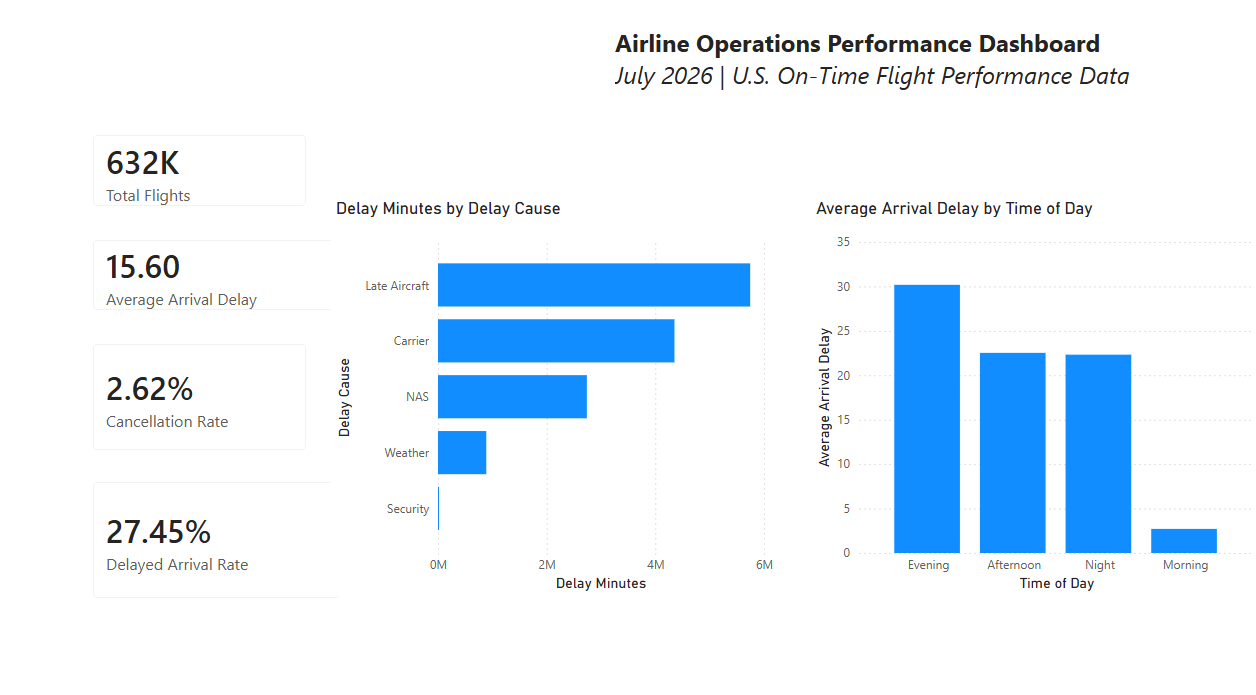

This screenshot's page, from the dashboard's own definition file:
{"tool":"powerbi","page":{"name":"Page 1","canvas":[1280,720],"ordinal":0},"visuals":[{"type":"cardVisual","fields":{"Data":["T_ONTIME_REPORTING.Total Flights","T_ONTIME_REPORTING.Total Flights"]},"box":[97,124,247,105],"z":0},{"type":"cardVisual","fields":{"Data":["T_ONTIME_REPORTING.Cancellation Rate"]},"box":[97,333,247,140],"z":1},{"type":"cardVisual","fields":{"Data":["T_ONTIME_REPORTING.Delayed Arrival Rate"]},"box":[97,471,280,150],"z":2},{"type":"cardVisual","fields":{"Data":["T_ONTIME_REPORTING.Average Arrival Delay"]},"box":[97,229,280,104],"z":3},{"type":"barChart","fields":{"Category":["Delay Causes.Delay Cause"],"Y":["Delay Causes.Delay Minutes"]},"box":[352,204,447,398],"z":4},{"type":"columnChart","title":"Average Arrival Delay by Time of Day","fields":{"Category":["T_ONTIME_REPORTING.Time of Day"],"Y":["T_ONTIME_REPORTING.Average Arrival Delay"]},"box":[832,204,448,398],"z":5},{"type":"textbox","box":[631,27,627,81],"z":6}]}

Visuals, with their boxes in screenshot pixels (x1, y1, x2, y2), scaled from the page's 1280x720 canvas onto the 1256x695 screenshot:
cardVisual - T_ONTIME_REPORTING.Total Flights x T_ONTIME_REPORTING.Total Flights: rect(95, 120, 338, 221)
cardVisual - T_ONTIME_REPORTING.Cancellation Rate: rect(95, 321, 338, 457)
cardVisual - T_ONTIME_REPORTING.Delayed Arrival Rate: rect(95, 455, 370, 599)
cardVisual - T_ONTIME_REPORTING.Average Arrival Delay: rect(95, 221, 370, 321)
barChart - Delay Causes.Delay Cause x Delay Causes.Delay Minutes: rect(345, 197, 784, 581)
"Average Arrival Delay by Time of Day" columnChart: rect(816, 197, 1255, 581)
textbox: rect(619, 26, 1234, 104)
